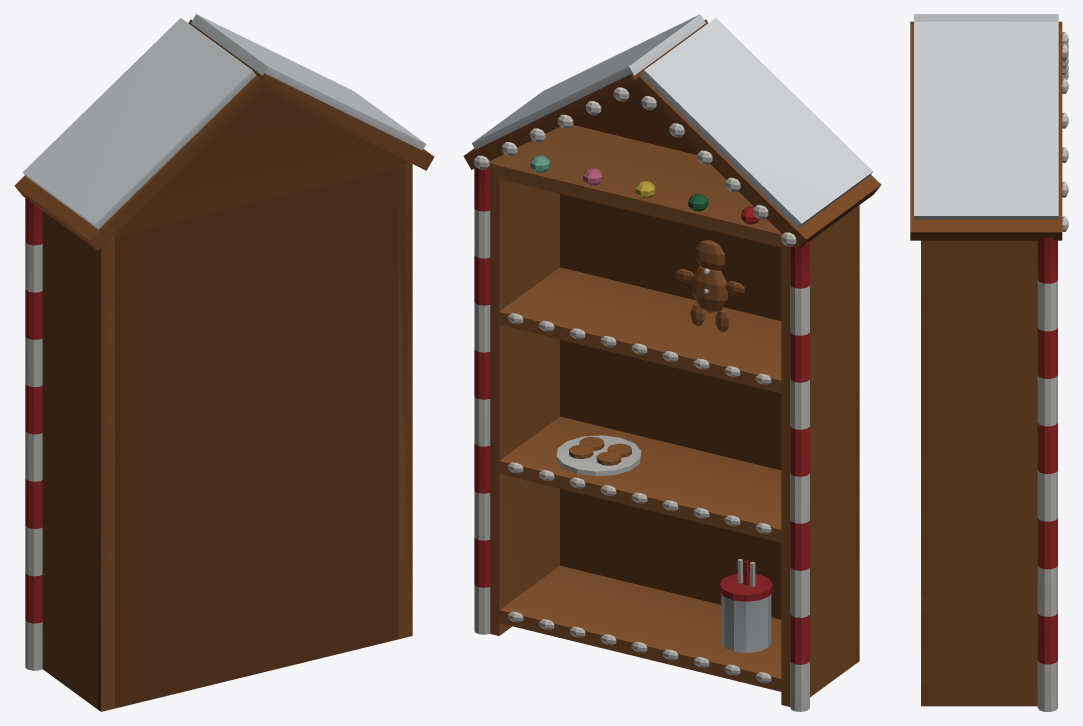
The model's file is xmas_gingerbread_shelf.glb.
3 renders of one model, left to right at view 1: azimuth 30°, elevation 25°; view 2: azimuth 150°, elevation 25°; view 3: azimuth 270°, elevation 25°, orthographic.
Size of the model in its own units: 1.11 by 1.87 by 0.4376.
